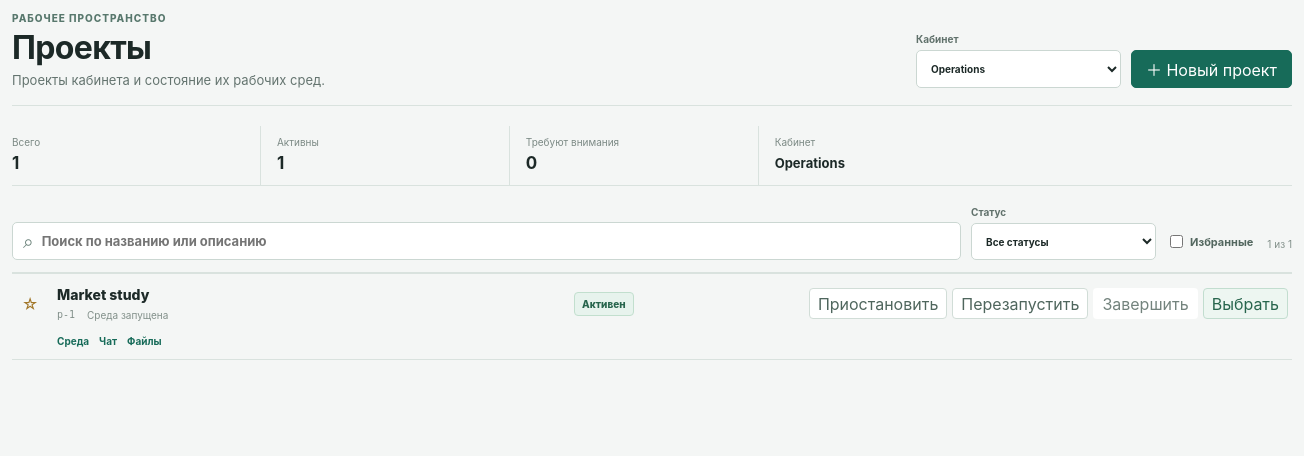
Test: ProjectsOverview acceptance surface › does not confirm a lifecycle action when the route DTO and project/list readback disagree
Click the button "Приостановить". click: (878, 304)
box: [809, 288, 947, 319]
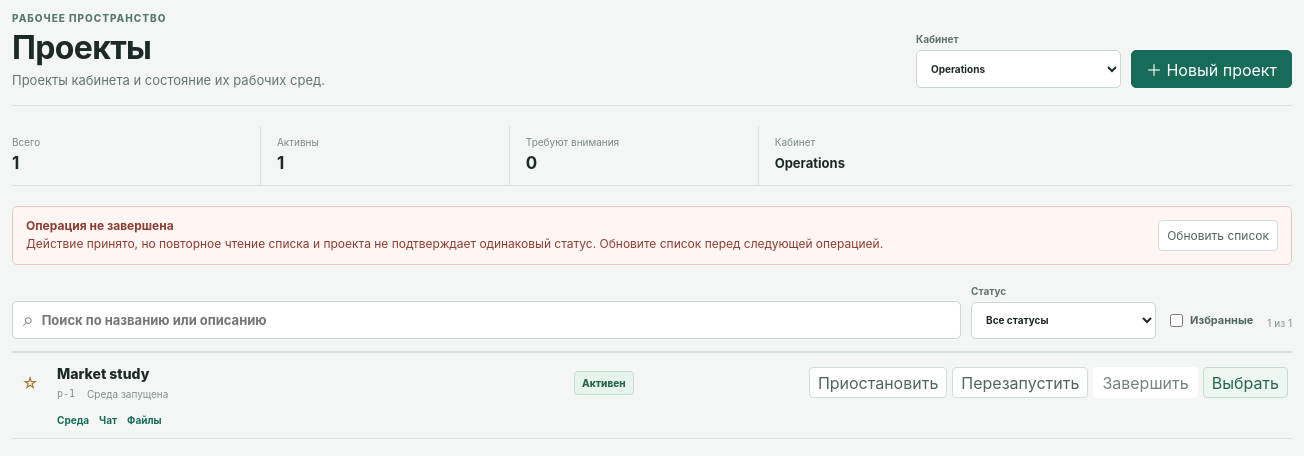
Check: the text "списка и проекта не подтверждает одинаковый статус" is shown, box [26, 236, 883, 251]
